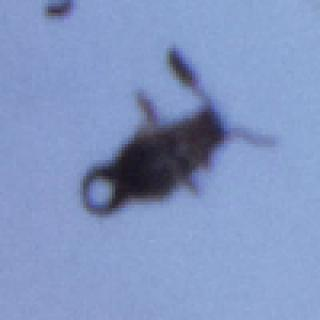earwig: (75, 42, 277, 221)
